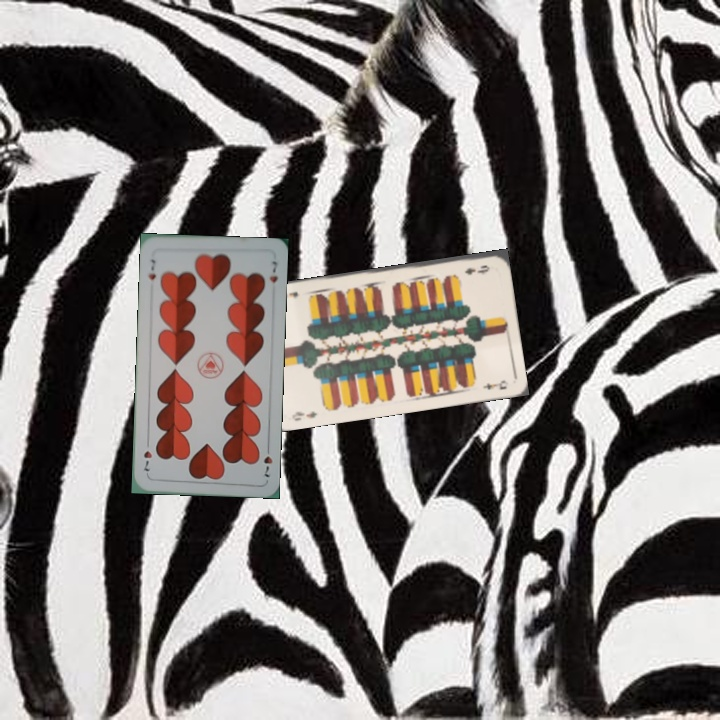E9: (288, 407, 320, 423), (461, 261, 492, 277)
H7: (259, 441, 275, 480), (144, 255, 158, 282)
